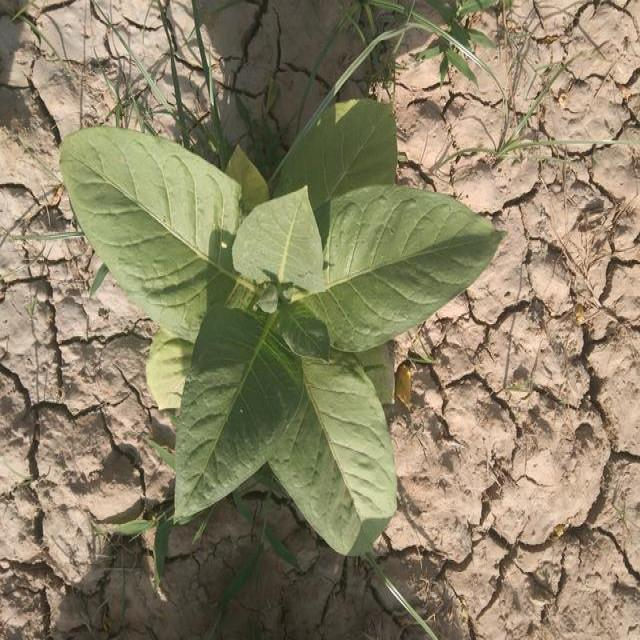crop: (71, 111, 488, 569)
